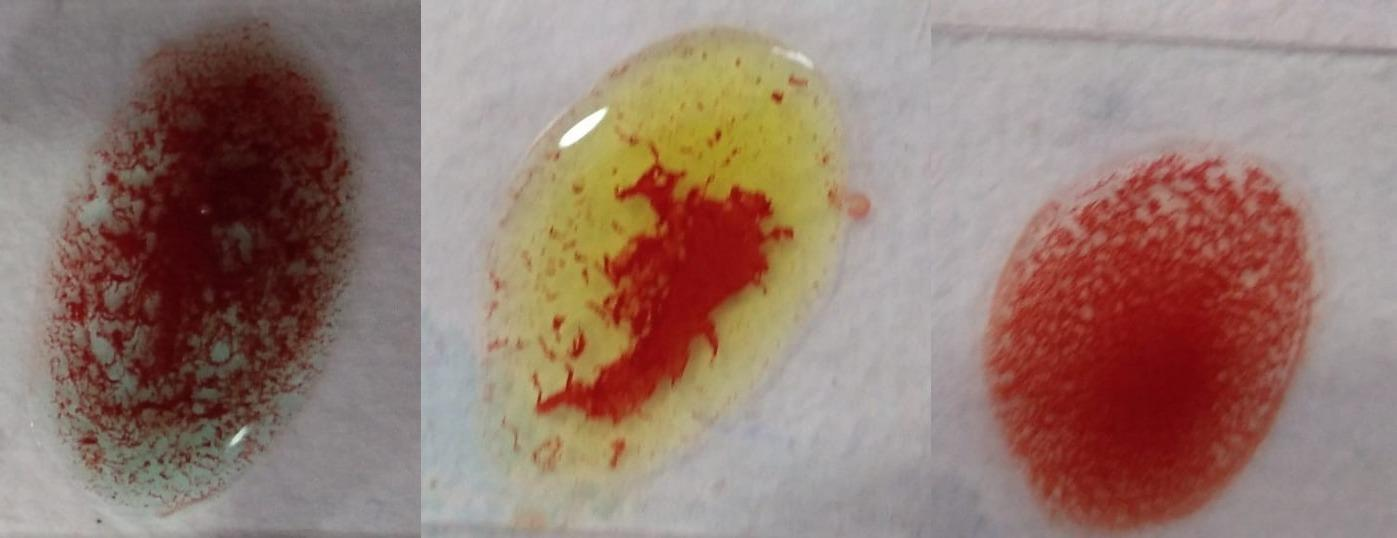A: (44, 21, 341, 508)
B: (488, 35, 844, 486)
D: (978, 143, 1300, 538)
